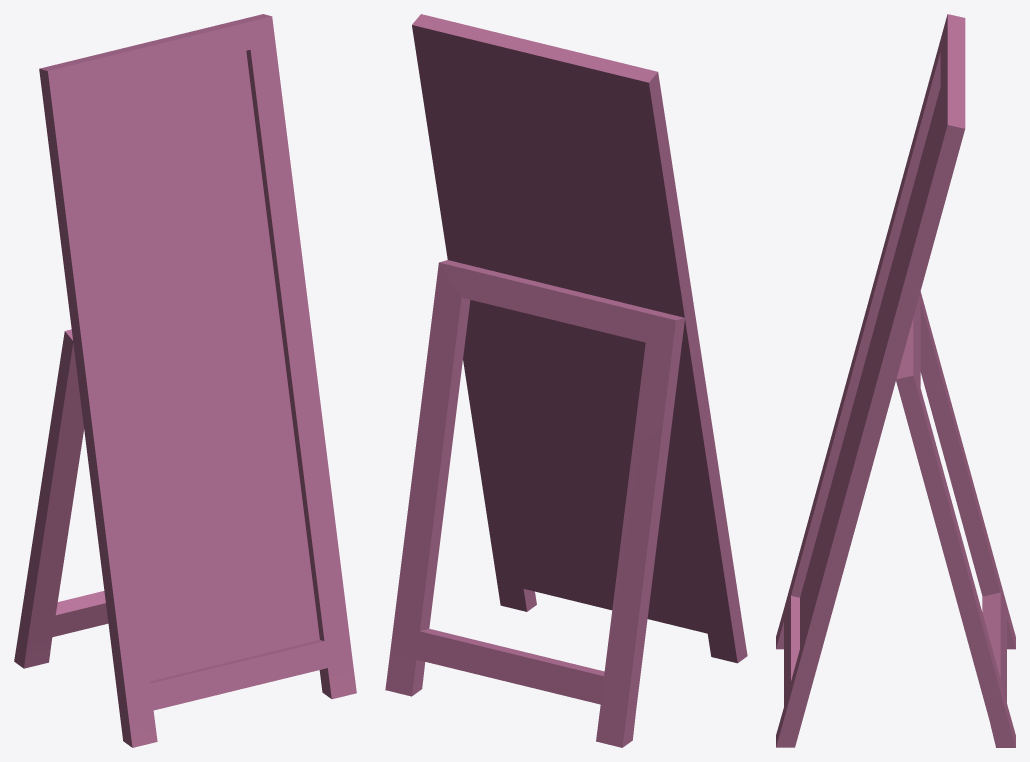
Rendered from FreestandMirror.fbx.
3 renders of one model, left to right at view 1: azimuth 30°, elevation 25°; view 2: azimuth 150°, elevation 25°; view 3: azimuth 270°, elevation 25°, orthographic. The views are drawn at different scales.
Parts seen in each view (by area): view 1: FreestandMirror.001, FreestandMirror; view 2: FreestandMirror; view 3: FreestandMirror, FreestandMirror.001.
Boxes of the visible parts, bbox=[...] form: FreestandMirror.001: bbox=[76, 51, 319, 681]; FreestandMirror: bbox=[14, 14, 356, 747]; FreestandMirror: bbox=[385, 14, 747, 747]; FreestandMirror: bbox=[776, 14, 1015, 747]; FreestandMirror.001: bbox=[800, 87, 940, 647].
Size of the model in its own units: 66 by 173 by 60.35.
